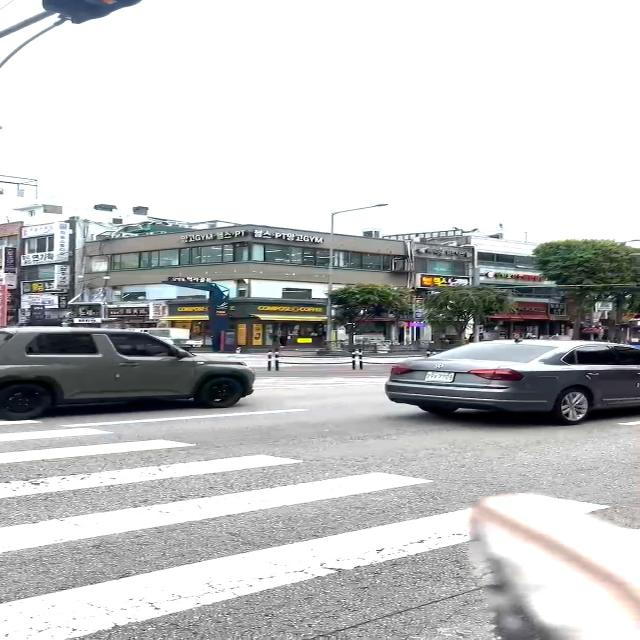building: (68, 221, 414, 353)
car: (0, 325, 255, 421), (384, 337, 639, 425)
